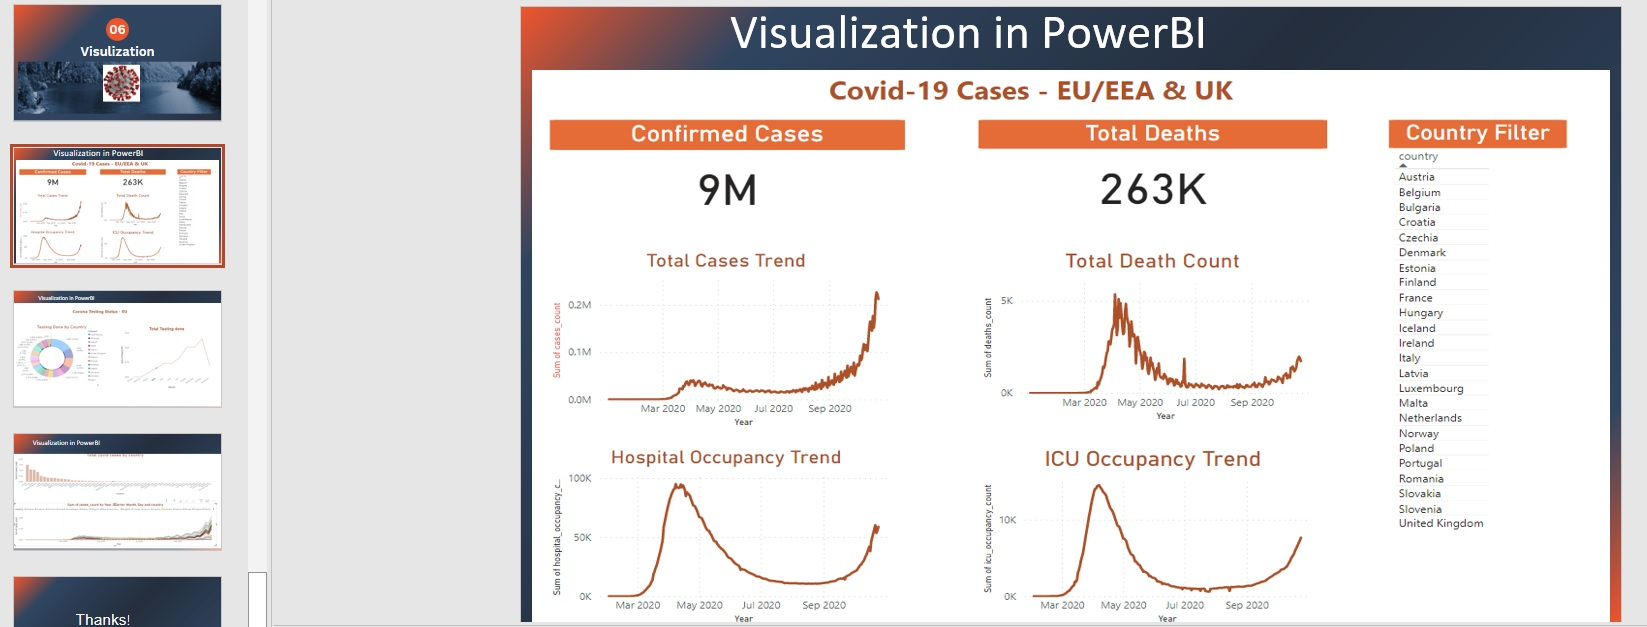

What the dashboard file says about the page in this screenshot:
{"tool":"powerbi","page":{"name":"Trends","canvas":[1280,720],"ordinal":0},"visuals":[{"type":"card","title":"Confirmed Cases","fields":{"Values":["Sum(case_and_deaths.cases_count)"]},"box":[24.7,79.6,402.1,129],"z":0},{"type":"card","title":"Total Deaths","fields":{"Values":["Sum(case_and_deaths.deaths_count)"]},"box":[510.5,79.6,395.2,129],"z":1000},{"type":"lineChart","title":"Total Cases Trend","fields":{"Category":["case_and_deaths.reported_date.Variation.Date Hierarchy.Year","case_and_deaths.reported_date.Variation.Date Hierarchy.Month","case_and_deaths.reported_date.Variation.Date Hierarchy.Day"],"Y":["Sum(case_and_deaths.cases_count)"]},"box":[21.7,243.4,404.8,229.2],"z":2000},{"type":"lineChart","title":"Total Death Count","fields":{"Y":["Sum(case_and_deaths.deaths_count)"],"Category":["case_and_deaths.reported_date.Variation.Date Hierarchy.Year","case_and_deaths.reported_date.Variation.Date Hierarchy.Month","case_and_deaths.reported_date.Variation.Date Hierarchy.Day"]},"box":[510.2,243.4,395.2,220.9],"z":3000},{"type":"lineChart","title":"Hospital Occupancy Trend","fields":{"Y":["Sum(hospital_admissions_daily.hospital_occupancy_count)"],"Category":["hospital_admissions_daily.reported_date.Variation.Date Hierarchy.Year","hospital_admissions_daily.reported_date.Variation.Date Hierarchy.Quarter","hospital_admissions_daily.reported_date.Variation.Date Hierarchy.Month","hospital_admissions_daily.reported_date.Variation.Date Hierarchy.Day"]},"box":[22.1,491,405,229],"z":4000},{"type":"lineChart","title":"ICU Occupancy Trend","fields":{"Y":["Sum(hospital_admissions_daily.icu_occupancy_count)"],"Category":["hospital_admissions_daily.reported_date.Variation.Date Hierarchy.Year","hospital_admissions_daily.reported_date.Variation.Date Hierarchy.Quarter","hospital_admissions_daily.reported_date.Variation.Date Hierarchy.Month","hospital_admissions_daily.reported_date.Variation.Date Hierarchy.Day"]},"box":[510.5,491.3,395.2,229.2],"z":5000},{"type":"tableEx","title":"Country Filter","fields":{"Values":["hospital_admissions_daily.country"]},"box":[976.2,79,201.7,526.9],"z":6000},{"type":"textbox","box":[336.2,15.1,623,52.1],"z":6001}]}

Visuals, with their boxes on the page's 1280x720 design canvas (x1, y1, x2, y2). These are canvas units, not pixel positions in the 1647x627 screenshot, which may show the page scaled, cropped or inside an application window:
"Confirmed Cases" card: locate(25, 80, 427, 209)
"Total Deaths" card: locate(510, 80, 906, 209)
"Total Cases Trend" lineChart: locate(22, 243, 426, 473)
"Total Death Count" lineChart: locate(510, 243, 905, 464)
"Hospital Occupancy Trend" lineChart: locate(22, 491, 427, 720)
"ICU Occupancy Trend" lineChart: locate(510, 491, 906, 720)
"Country Filter" tableEx: locate(976, 79, 1178, 606)
textbox: locate(336, 15, 959, 67)
